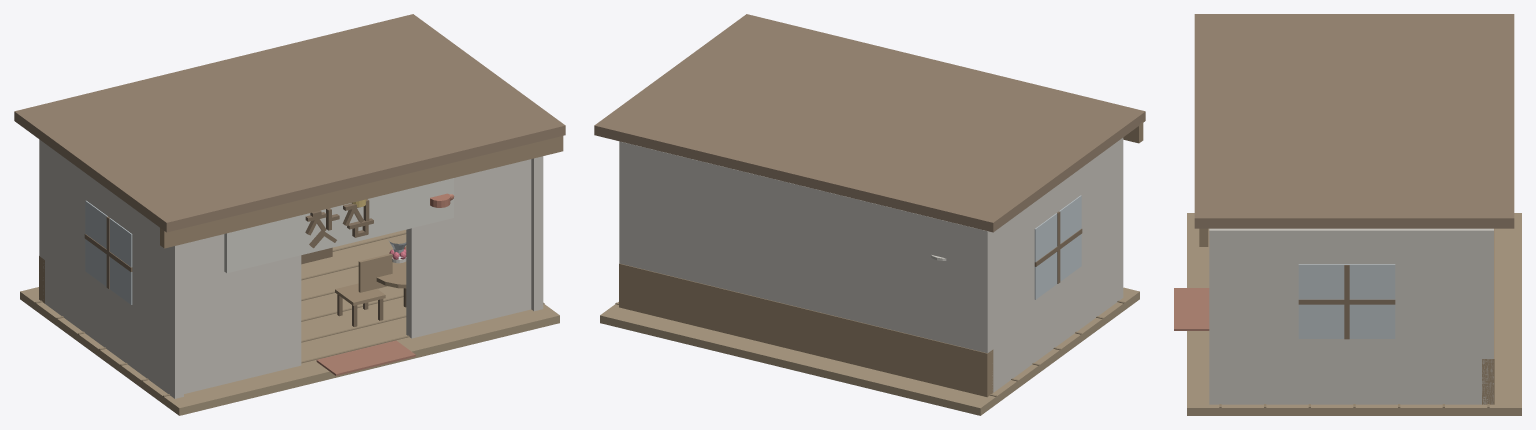
The model's file is kissa.glb.
3 views of the same model, side by side, from view 1: azimuth 30°, elevation 25°; view 2: azimuth 150°, elevation 25°; view 3: azimuth 270°, elevation 25° (orthographic). The views are drawn at different scales.
Parts seen in each view (by area): view 1: part_05, part_23, part_10, part_08, part_24, part_15, part_03, part_11, part_06; view 2: part_05, part_23, part_08, part_10, part_15, part_03; view 3: part_05, part_23, part_10, part_15, part_11, part_03, part_08.
Boxes of the visible parts, <box> form: part_05: <box>14,14,565,232</box>; part_23: <box>39,139,543,398</box>; part_10: <box>20,230,559,415</box>; part_08: <box>39,136,563,305</box>; part_24: <box>224,178,453,273</box>; part_15: <box>85,200,132,304</box>; part_03: <box>84,199,406,326</box>; part_11: <box>316,340,415,375</box>; part_06: <box>35,232,544,396</box>; part_05: <box>594,14,1145,232</box>; part_23: <box>619,138,1123,392</box>; part_08: <box>619,121,1143,397</box>; part_10: <box>600,287,1139,415</box>; part_15: <box>1034,195,1081,299</box>; part_03: <box>1034,211,1082,283</box>; part_05: <box>1194,14,1514,228</box>; part_23: <box>1209,228,1493,404</box>; part_10: <box>1187,213,1521,415</box>; part_15: <box>1298,264,1395,338</box>; part_11: <box>1174,288,1209,330</box>; part_03: <box>1298,265,1395,339</box>; part_08: <box>1199,228,1494,404</box>.
Size of the model in its own units: 13 by 6 by 9.35.
